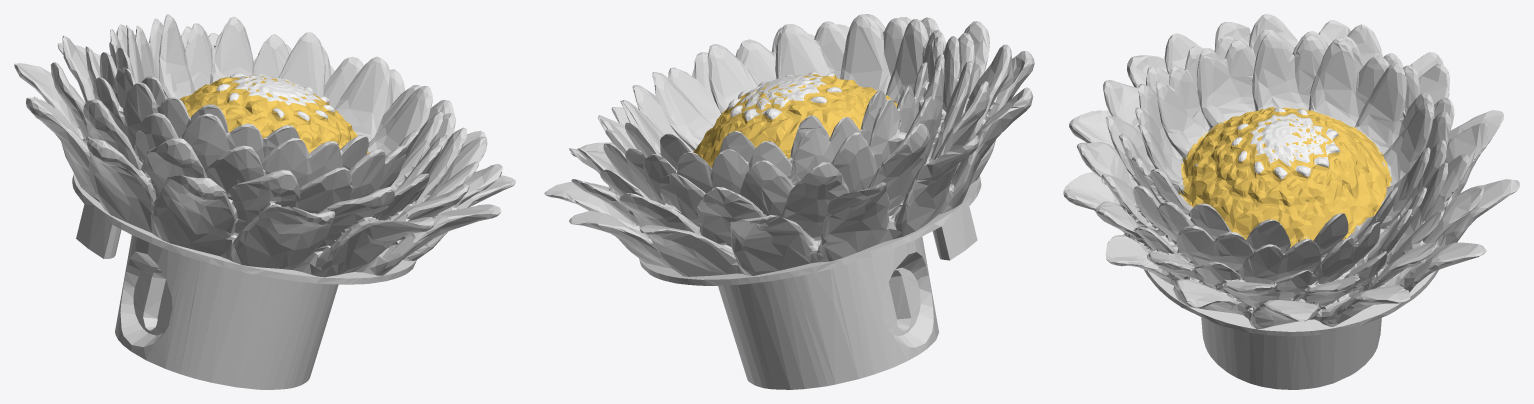
Rendered from frontpanel_white.glb.
3 renders of one model, left to right at view 1: azimuth 30°, elevation 25°; view 2: azimuth 150°, elevation 25°; view 3: azimuth 270°, elevation 25°, orthographic. The views are drawn at different scales.
Size of the model in its own units: 0.0529 by 0.0386 by 0.0551.
